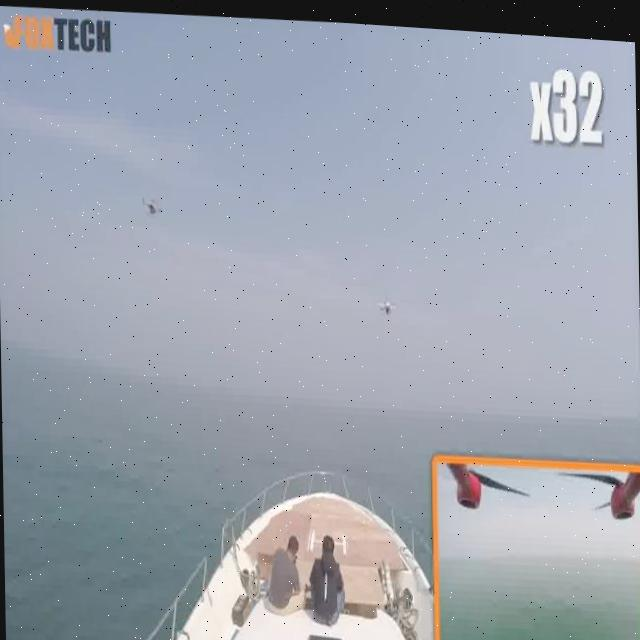drone: (136, 179, 162, 223), (378, 277, 400, 318)
